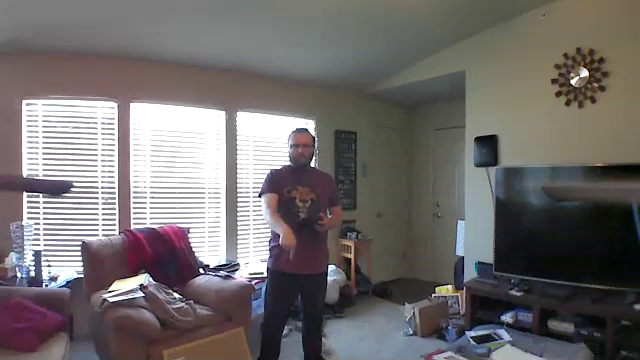down: (275, 219, 299, 266)
